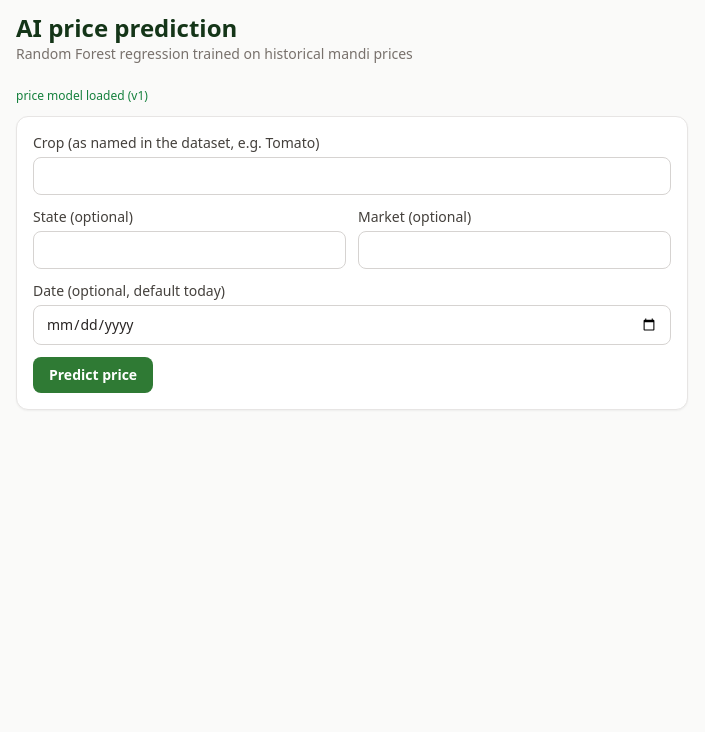
Test: AI price result details › shows unit, per-kg value, coverage, warnings and limitations; converts to the selected currency
The image size is (705, 732).
Type "Tomato" into the field labelled "Crop (as named in the dataset, e.g. Tomato)" at (352, 176), box [33, 157, 671, 195]
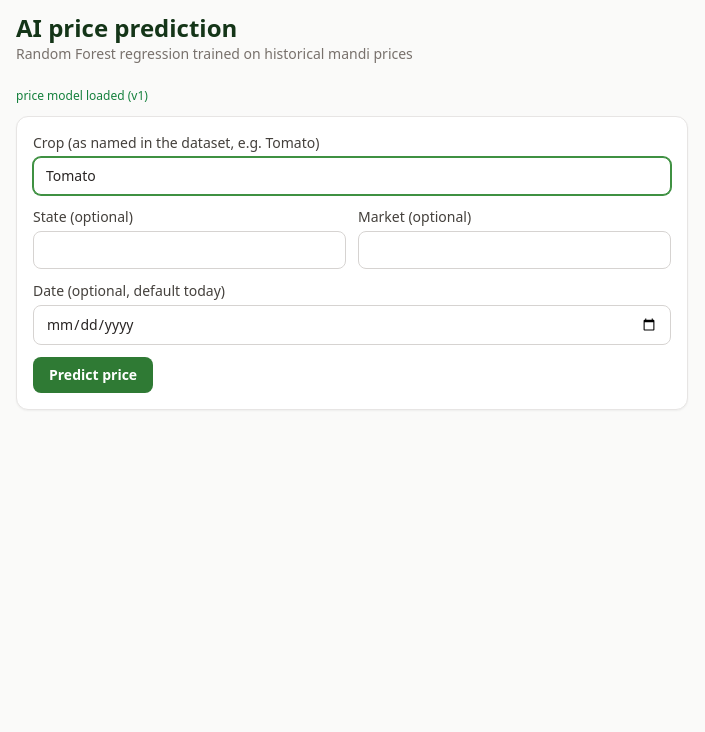
Click the button "Predict price" at (93, 375), box [33, 357, 153, 393]
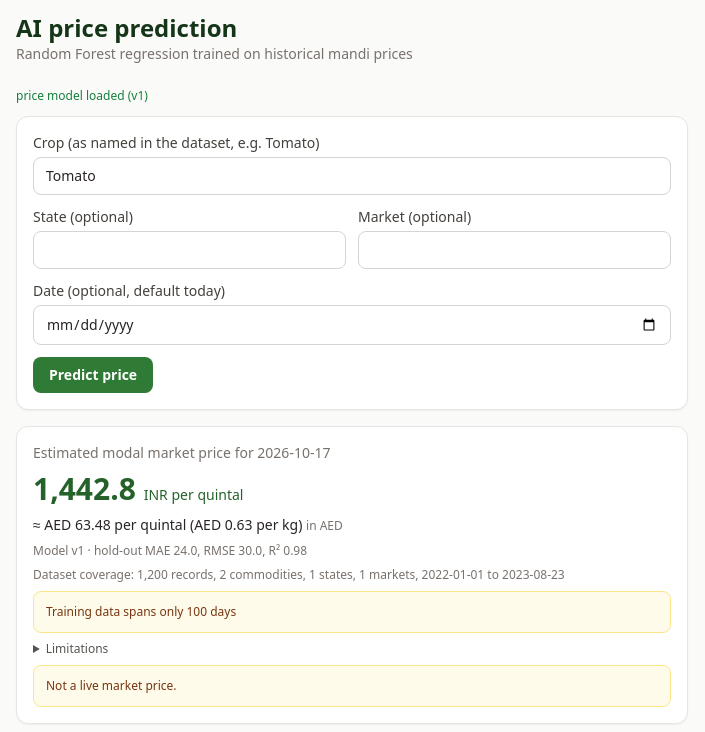
Expected: the element with test id "prediction" shows "INR per quintal", [144, 485, 243, 504]
Expected: the text "≈ AED 63.48 per quintal (AED 0.63 per kg) in AED" is shown, [33, 515, 343, 534]
Expected: the text "1,200 records, 2 commodities" is shown, [33, 566, 565, 583]
